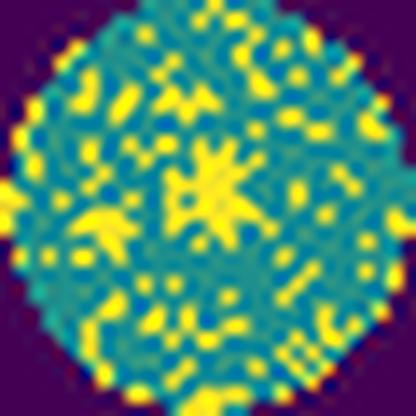Center: (163, 138, 264, 240)
